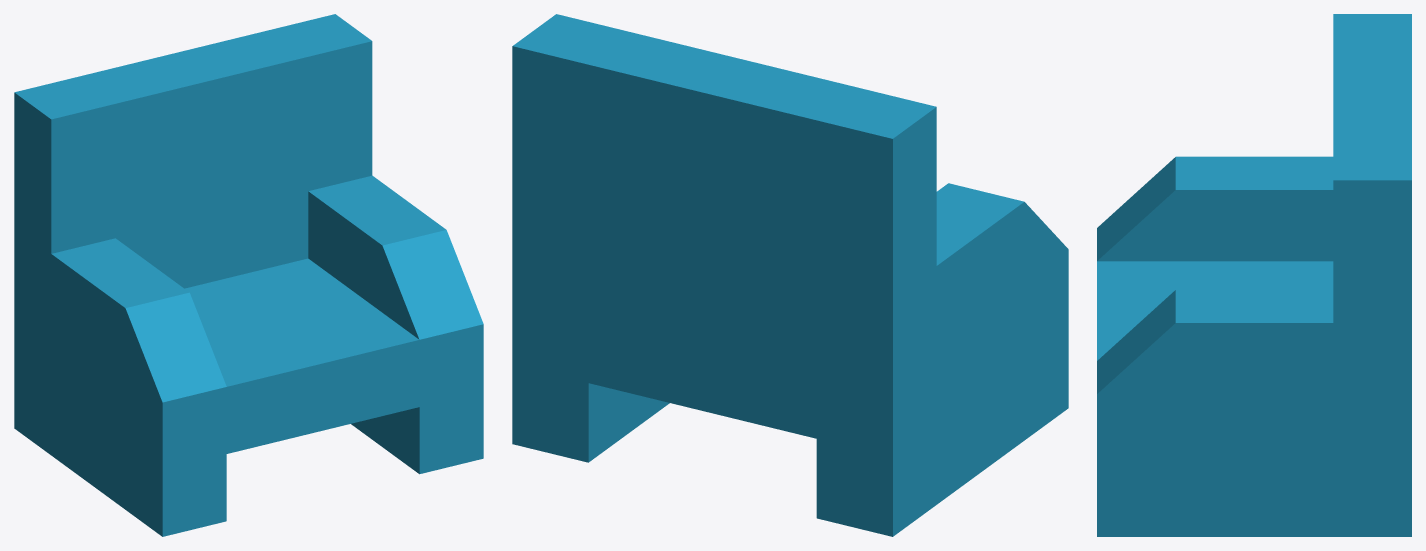
3 views of the same model, side by side, from view 1: azimuth 30°, elevation 25°; view 2: azimuth 150°, elevation 25°; view 3: azimuth 270°, elevation 25° (orthographic). The views are drawn at different scales.
Visible parts, largest first — view 1: Null, Null_4, Null_3, Null_2, Null_1; view 2: Null, Null_4, Null_1, Null_3, Null_2; view 3: Null_4, Null, Null_1, Null_2, Null_3.
Part boxes in pixels (bbox=[...]): Null: bbox=[14, 76, 226, 536]; Null_4: bbox=[271, 14, 483, 474]; Null_3: bbox=[207, 30, 419, 422]; Null_2: bbox=[143, 45, 355, 438]; Null_1: bbox=[79, 61, 290, 453]; Null: bbox=[816, 88, 1068, 536]; Null_4: bbox=[512, 14, 669, 462]; Null_1: bbox=[740, 69, 860, 438]; Null_3: bbox=[588, 32, 707, 401]; Null_2: bbox=[664, 51, 783, 419]; Null_4: bbox=[1097, 147, 1411, 536]; Null: bbox=[1097, 14, 1411, 261]; Null_1: bbox=[1097, 47, 1411, 294]; Null_2: bbox=[1097, 80, 1411, 327]; Null_3: bbox=[1097, 113, 1411, 360].
Size of the model in its own units: 500 by 500 by 400.
